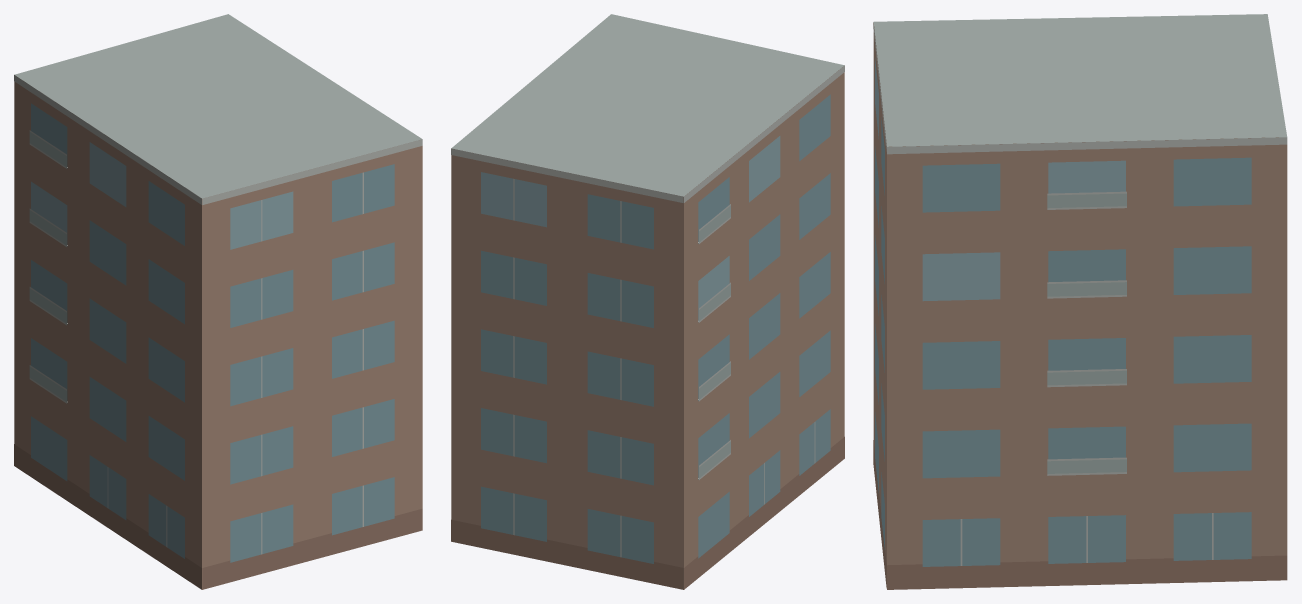
File: survey-upis-32702329.glb
3 renders of one model, left to right at view 1: azimuth 30°, elevation 25°; view 2: azimuth 150°, elevation 25°; view 3: azimuth 270°, elevation 25°, orthographic. The views are drawn at different scales.
Visible parts, largest first — view 1: survey-upis-32702329.tmp; view 2: survey-upis-32702329.tmp; view 3: survey-upis-32702329.tmp.
Boxes of the visible parts, x1,y1,x2,y2 form: survey-upis-32702329.tmp: [14, 14, 422, 589]; survey-upis-32702329.tmp: [451, 14, 844, 589]; survey-upis-32702329.tmp: [873, 14, 1287, 589].
Size of the model in its own units: 9.33 by 14.49 by 12.27.
